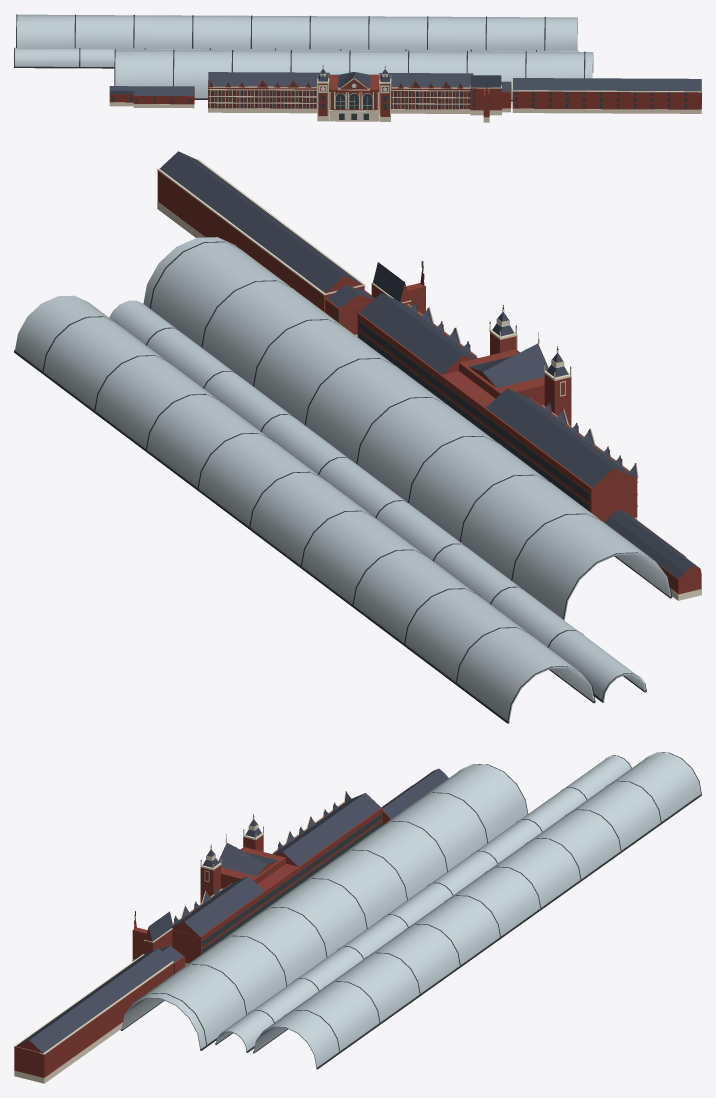
File: amsterdam-centraal-far.glb
The picture shows the model from 3 angles, top to bottom: view 1: azimuth 30°, elevation 25°; view 2: azimuth 150°, elevation 25°; view 3: azimuth 270°, elevation 25°; orthographic projection. The views are drawn at different scales.
Visible parts, largest first — view 1: amsterdam-centraal-0-glass, amsterdam-centraal-0-brick, amsterdam-centraal-0-slate, amsterdam-centraal-0-stone, amsterdam-centraal-0-glow, amsterdam-centraal-0-iron; view 2: amsterdam-centraal-0-glass, amsterdam-centraal-0-slate, amsterdam-centraal-0-brick, amsterdam-centraal-0-iron, amsterdam-centraal-0-glow, amsterdam-centraal-0-stone; view 3: amsterdam-centraal-0-glass, amsterdam-centraal-0-slate, amsterdam-centraal-0-brick, amsterdam-centraal-0-iron, amsterdam-centraal-0-glow, amsterdam-centraal-0-stone.
Part boxes in pixels (bbox=[...]): amsterdam-centraal-0-glass: bbox=[15, 14, 593, 99]; amsterdam-centraal-0-brick: bbox=[109, 74, 701, 117]; amsterdam-centraal-0-slate: bbox=[109, 69, 701, 95]; amsterdam-centraal-0-stone: bbox=[109, 68, 701, 122]; amsterdam-centraal-0-glow: bbox=[112, 74, 687, 119]; amsterdam-centraal-0-iron: bbox=[14, 14, 593, 101]; amsterdam-centraal-0-glass: bbox=[15, 237, 670, 721]; amsterdam-centraal-0-slate: bbox=[159, 151, 699, 578]; amsterdam-centraal-0-brick: bbox=[157, 171, 701, 594]; amsterdam-centraal-0-iron: bbox=[14, 241, 672, 723]; amsterdam-centraal-0-glow: bbox=[358, 273, 622, 511]; amsterdam-centraal-0-stone: bbox=[157, 159, 701, 600]; amsterdam-centraal-0-glass: bbox=[121, 753, 700, 1067]; amsterdam-centraal-0-slate: bbox=[16, 768, 448, 1053]; amsterdam-centraal-0-brick: bbox=[14, 786, 411, 1077]; amsterdam-centraal-0-iron: bbox=[120, 752, 701, 1069]; amsterdam-centraal-0-glow: bbox=[134, 805, 381, 953]; amsterdam-centraal-0-stone: bbox=[14, 791, 345, 1083].
Bounding box in the file's own units: 340 × 36.65 × 314.
